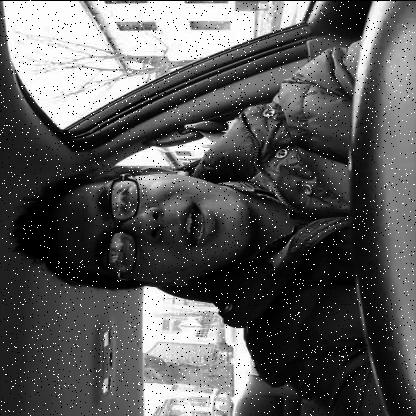seatbelt: (8, 110, 349, 298)
